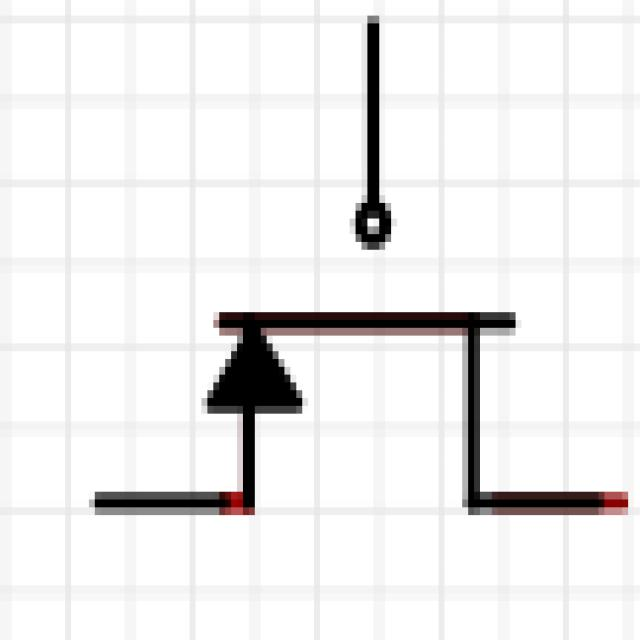pmos: (53, 8, 640, 640)
